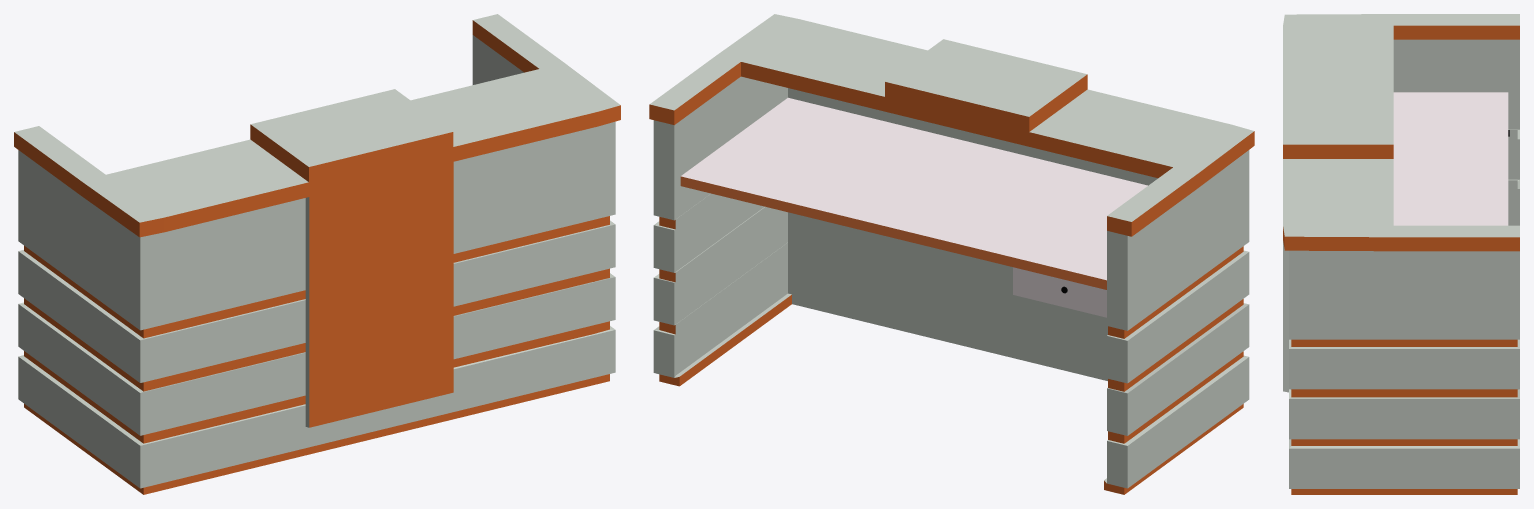
Rendered from meja_resepsionis_coe.glb.
The picture shows the model from 3 angles, left to right: view 1: azimuth 30°, elevation 25°; view 2: azimuth 150°, elevation 25°; view 3: azimuth 270°, elevation 25°; orthographic projection. The views are drawn at different scales.
Visible parts, largest first — view 1: Cube_0; view 2: Cube_0, Plane_1; view 3: Cube_0, Plane_1.
Boxes of the visible parts, x1=… form: Cube_0: x1=14, y1=14, x2=620, y2=494; Cube_0: x1=649, y1=14, x2=1254, y2=494; Plane_1: x1=680, y1=97, x2=1147, y2=317; Cube_0: x1=1283, y1=14, x2=1519, y2=494; Plane_1: x1=1393, y1=92, x2=1508, y2=225.
Size of the model in its own units: 1.88 by 1.09 by 0.8442.
